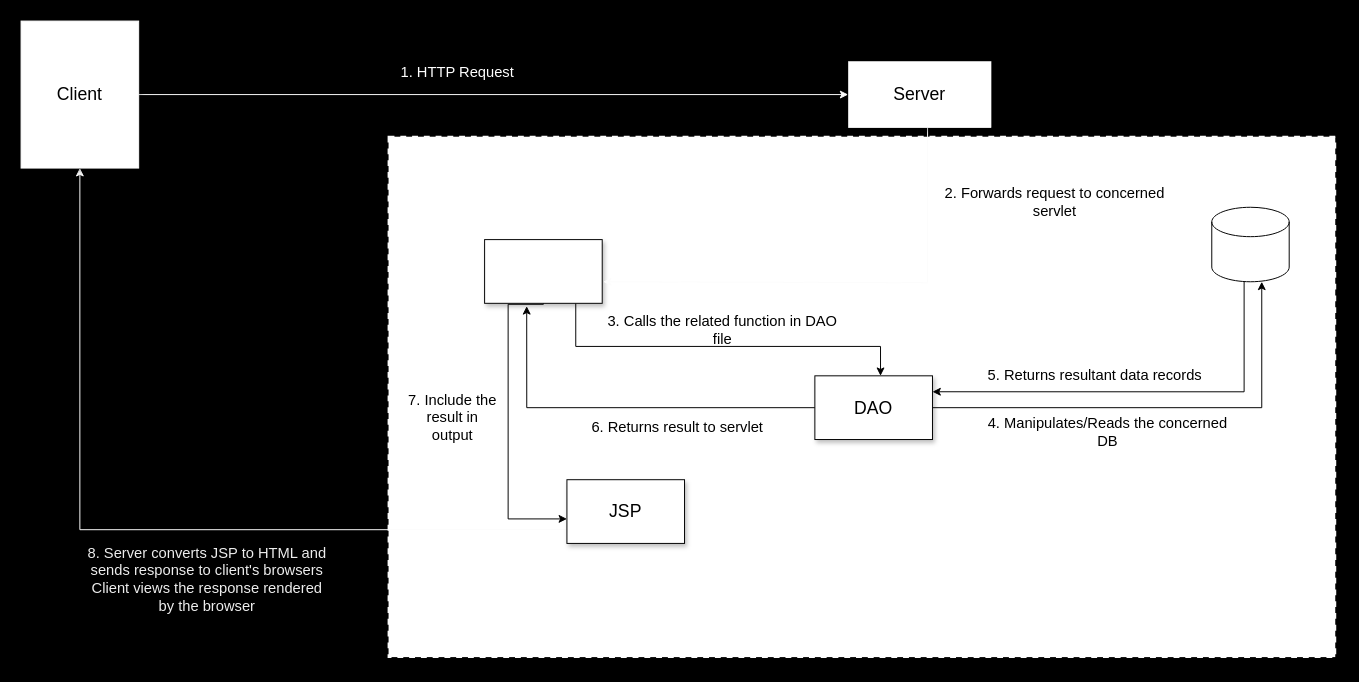
This 1359x682 diagram has some shape labels left out. The centre of each missing label's shape, as x and y in pixels:
"DB" belongs at [1250,244].
"Servlet" belongs at [544,272].
